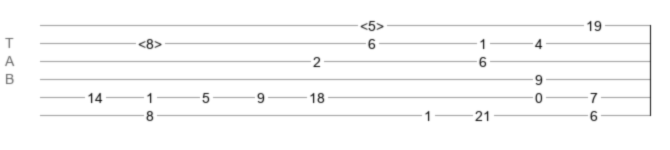0: (535, 90, 543, 100)
1: (146, 90, 154, 100), (424, 108, 432, 118), (479, 36, 487, 46)
14: (87, 90, 103, 100)
18: (309, 90, 325, 100)
19: (586, 18, 602, 28)
2: (313, 54, 321, 64)
21: (475, 108, 491, 118)
4: (535, 36, 543, 46)
5: (202, 90, 210, 100)
6: (368, 36, 376, 46), (479, 54, 487, 64), (590, 108, 598, 118)
7: (590, 90, 598, 100)
8: (146, 108, 154, 118)
9: (257, 90, 265, 100), (535, 72, 543, 82)
harmonic: (138, 36, 162, 46), (360, 18, 384, 28)
